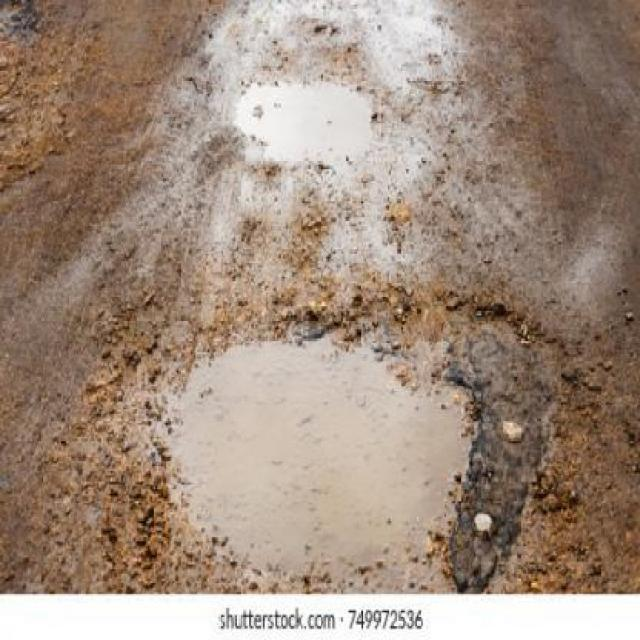pothole: (130, 322, 479, 588), (236, 77, 378, 170)
